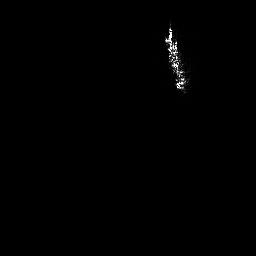ship: (165, 22, 191, 96)
